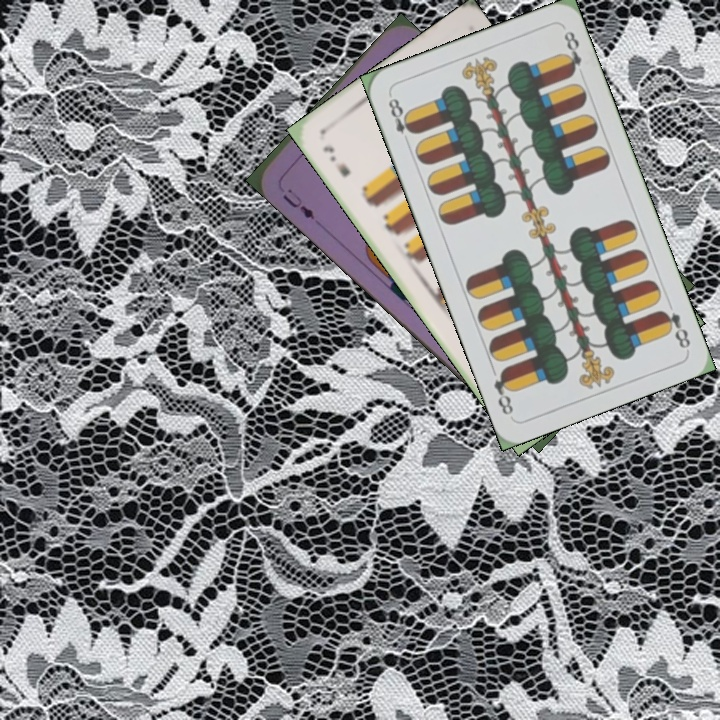E7: (319, 141, 353, 180)
E8: (384, 91, 418, 148), (655, 306, 693, 351)
EU: (278, 184, 318, 222)
